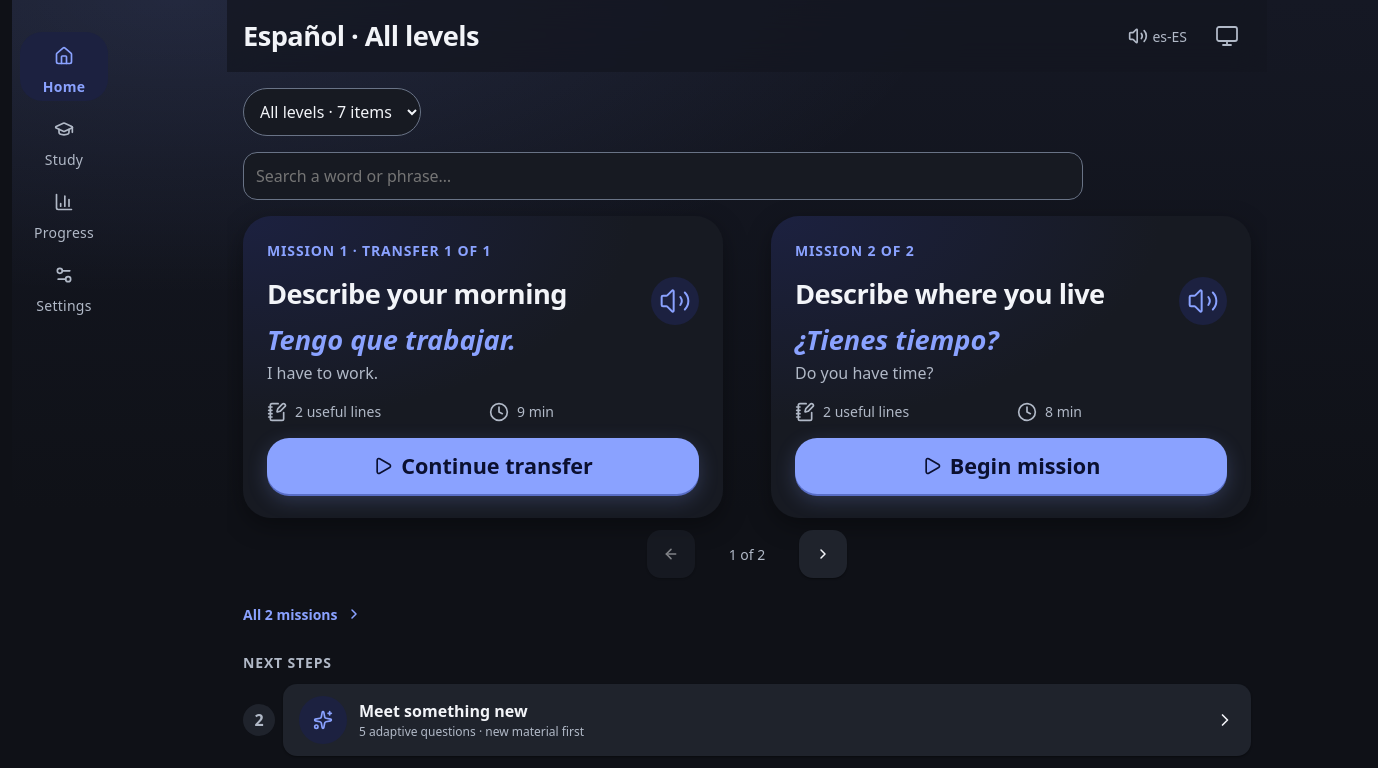
Test: HomeScreen › returns a learner with transfer evidence directly to Use
The image size is (1378, 768).
Click the button with aria-label "Continue Describe your morning".
click(483, 466)  # box [267,438,699,494]
(page scrolled)
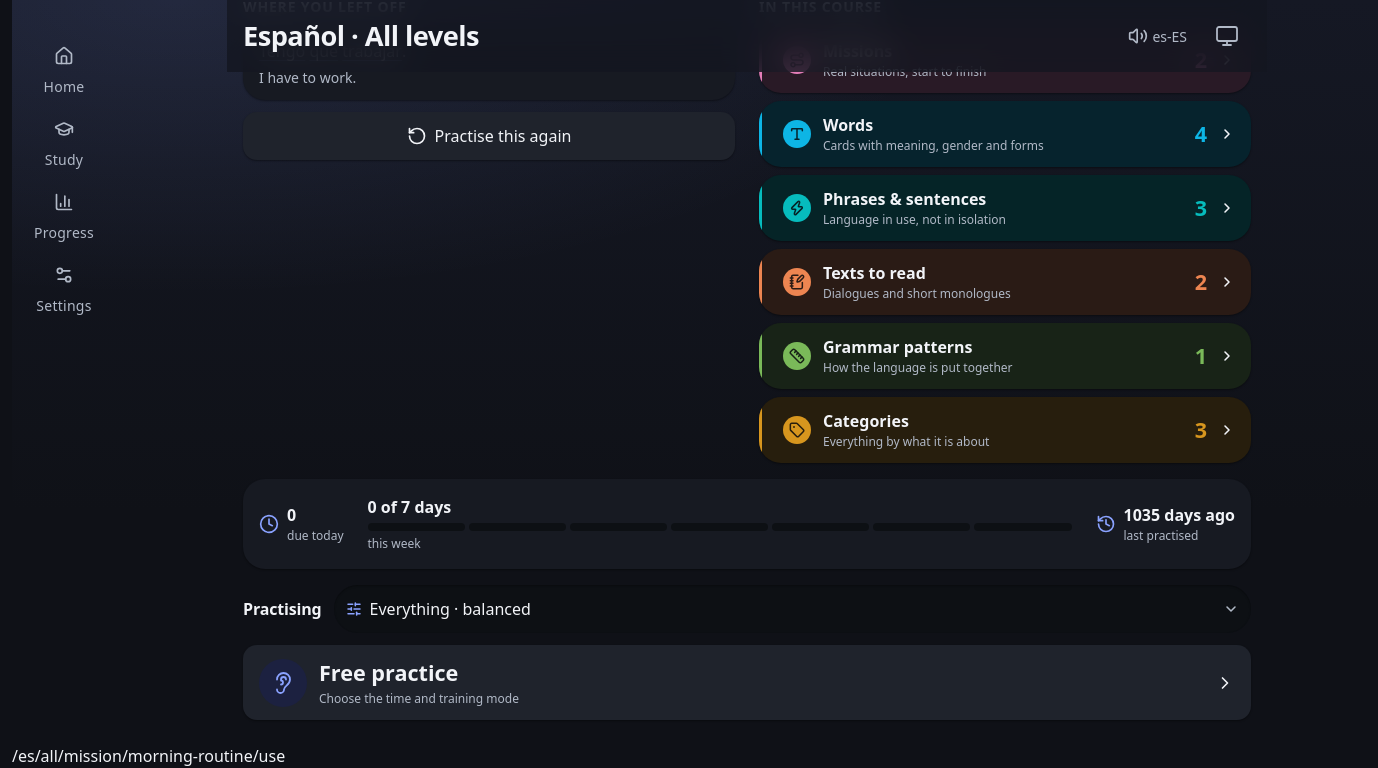
Result: the text with test id "where" reads "/es/all/mission/morning-routine/use" at [12,745,285,767]
